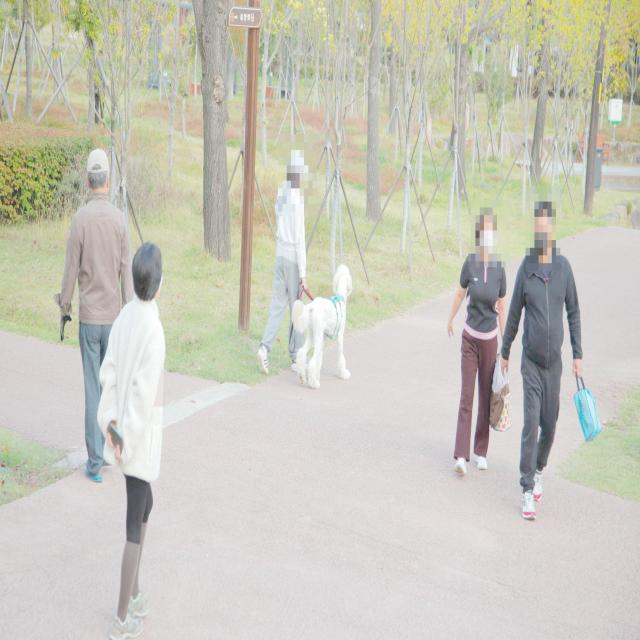Leashed_Dog: (289, 262, 353, 390)
